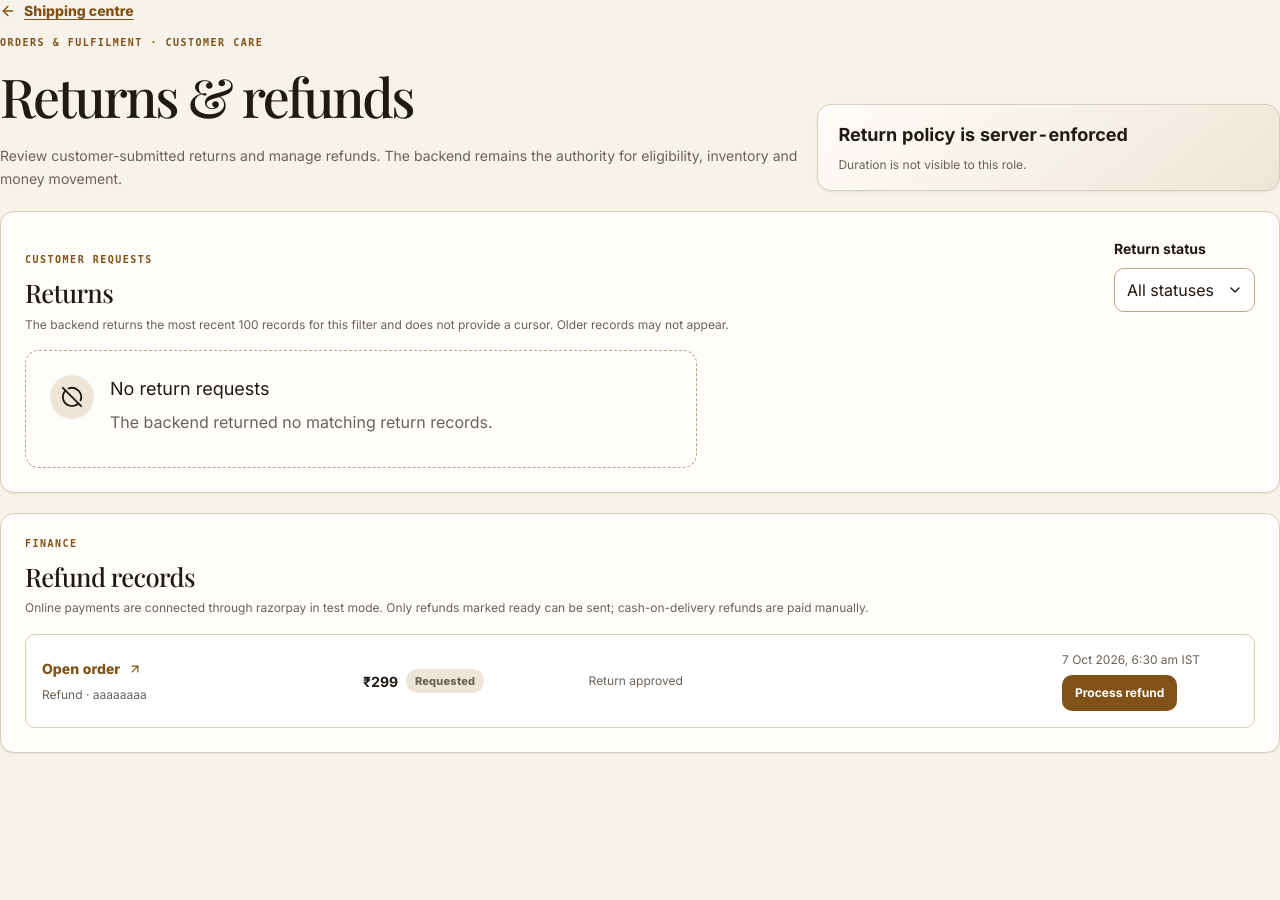
Scenario: refund processing › needs the typed confirmation before sending and then reloads the register
The image size is (1280, 900).
Click the button "Process refund" at (1120, 693), box x1=1062 y1=675 x2=1177 y2=711
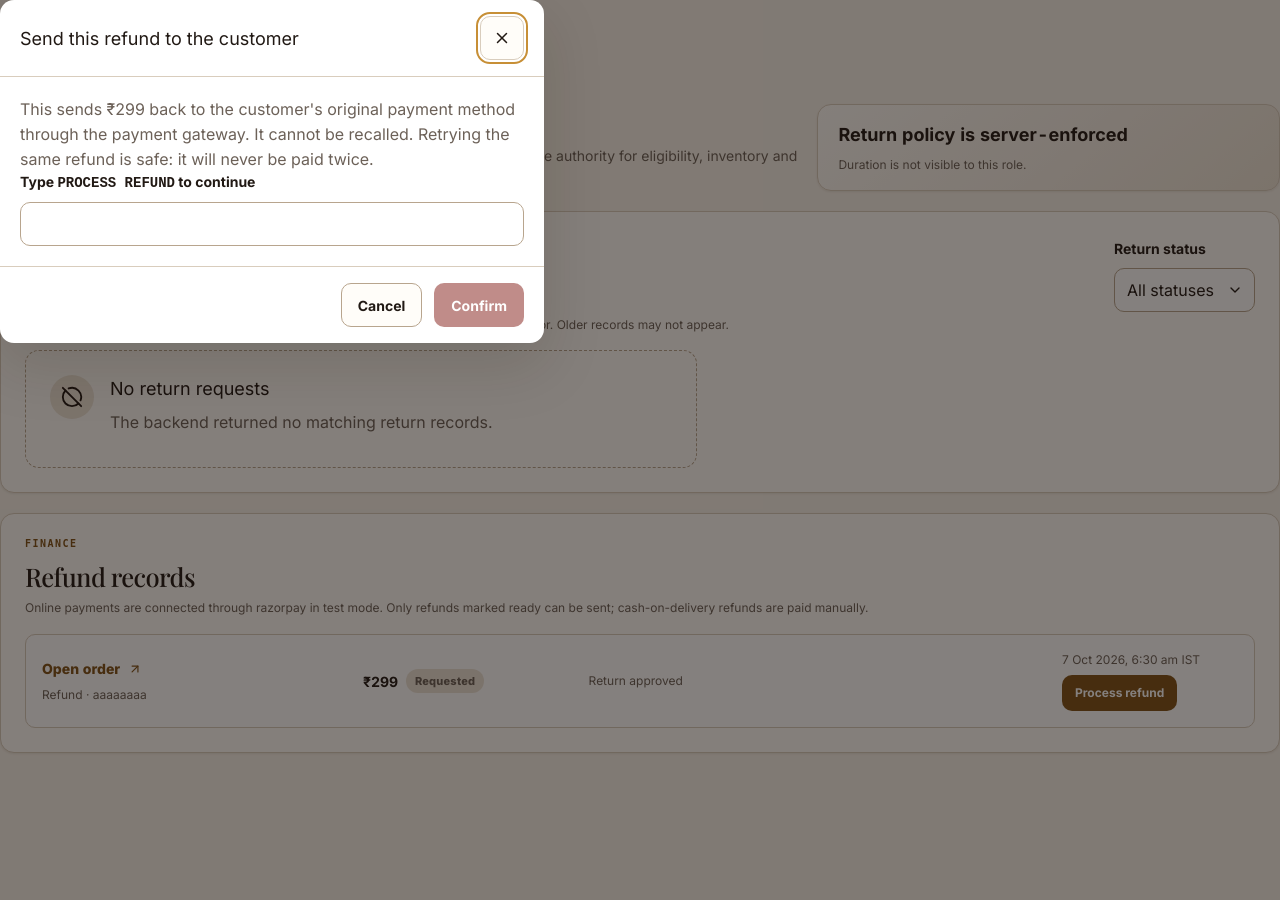
Type "PROCESS REFUND" into the field labelled "Type PROCESS REFUND to continue" at (272, 224), box x1=20 y1=202 x2=524 y2=246
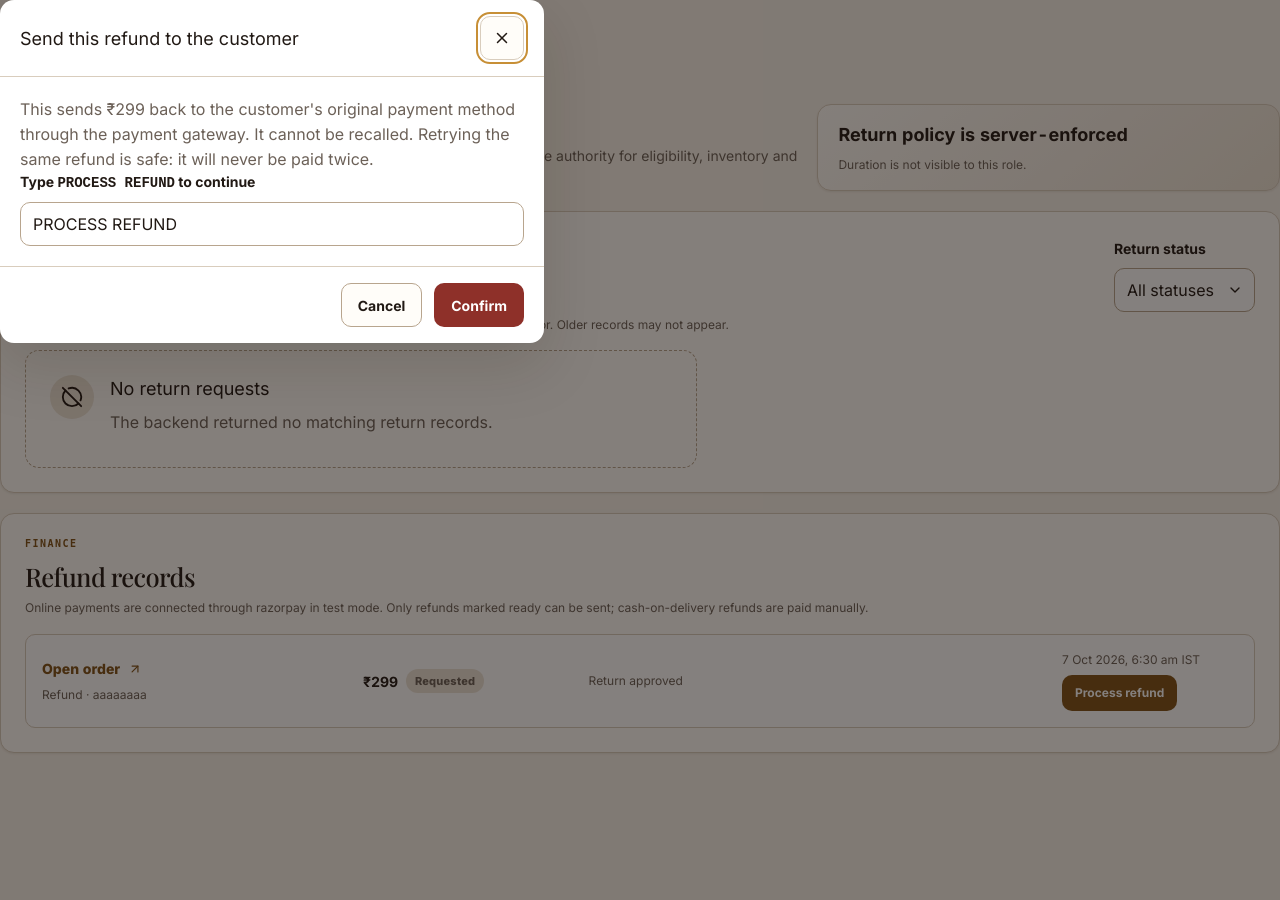
Click the button "Confirm" at (479, 305), box x1=434 y1=283 x2=524 y2=327
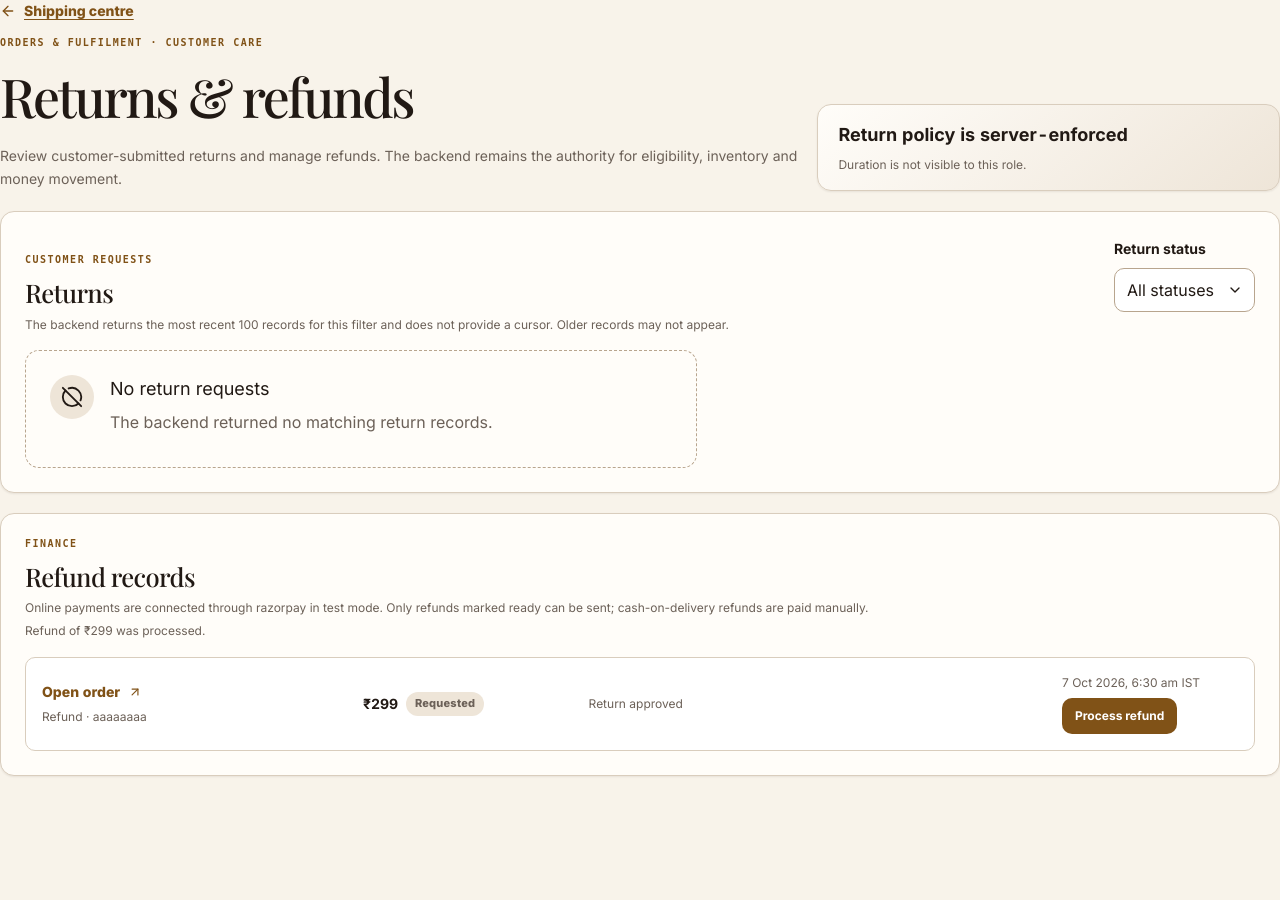
Check: the text "Refund of ₹299 was processed." is shown, box x1=25 y1=623 x2=205 y2=638
